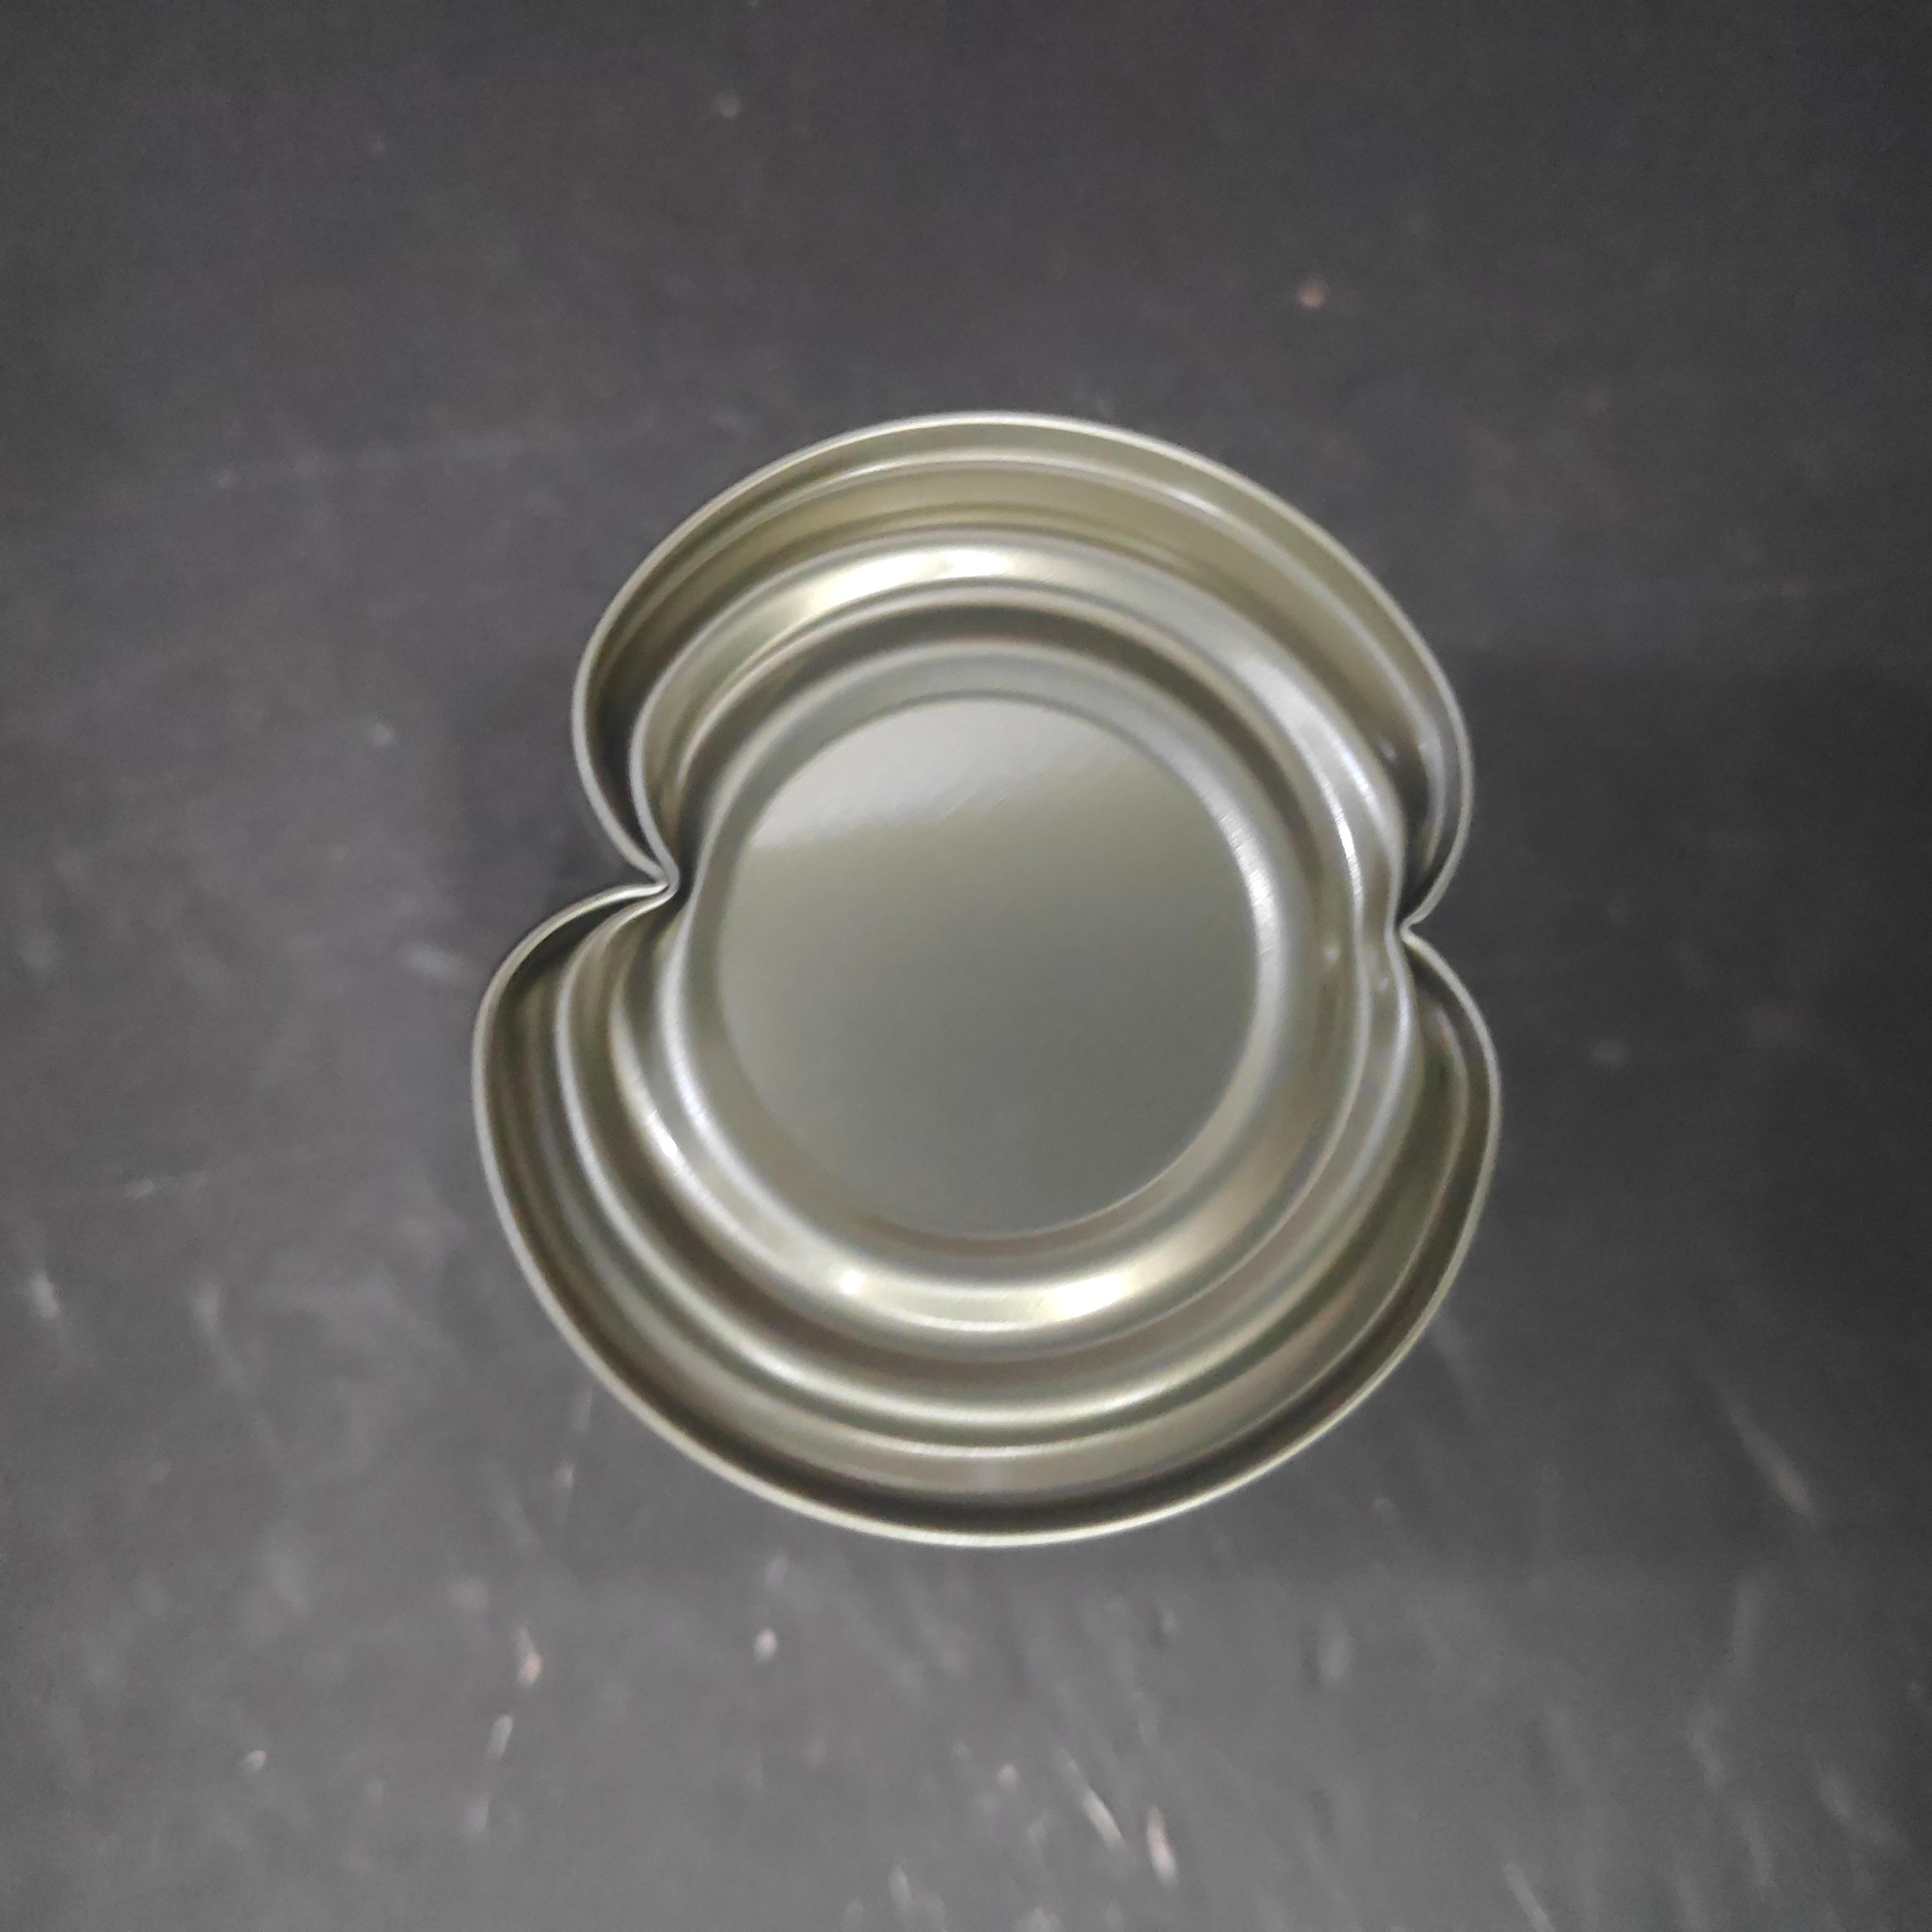Critical Defect: (419, 372, 1472, 1541)
